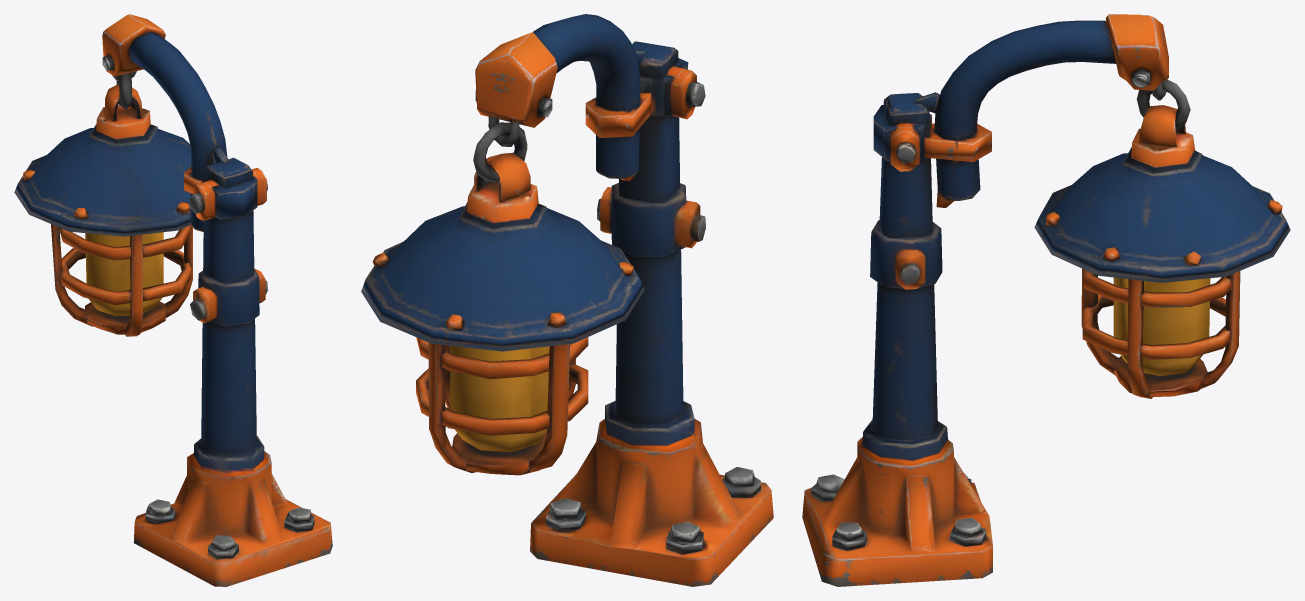
The model's file is 12-dock-lantern.glb.
The picture shows the model from 3 angles, left to right: view 1: azimuth 30°, elevation 25°; view 2: azimuth 150°, elevation 25°; view 3: azimuth 270°, elevation 25°; orthographic projection. The views are drawn at different scales.
Visible parts, largest first — view 1: tripo_node_ebc30fff-961f-4ae1-a27a-64c5268b17c7; view 2: tripo_node_ebc30fff-961f-4ae1-a27a-64c5268b17c7; view 3: tripo_node_ebc30fff-961f-4ae1-a27a-64c5268b17c7.
Part boxes in pixels (left/top/right/bottom): tripo_node_ebc30fff-961f-4ae1-a27a-64c5268b17c7: left=14, top=14, right=332, bottom=586; tripo_node_ebc30fff-961f-4ae1-a27a-64c5268b17c7: left=361, top=14, right=773, bottom=586; tripo_node_ebc30fff-961f-4ae1-a27a-64c5268b17c7: left=802, top=14, right=1290, bottom=586.
Size of the model in its own units: 0.3273 by 0.75 by 0.6238.
1 material, 1 textured.
